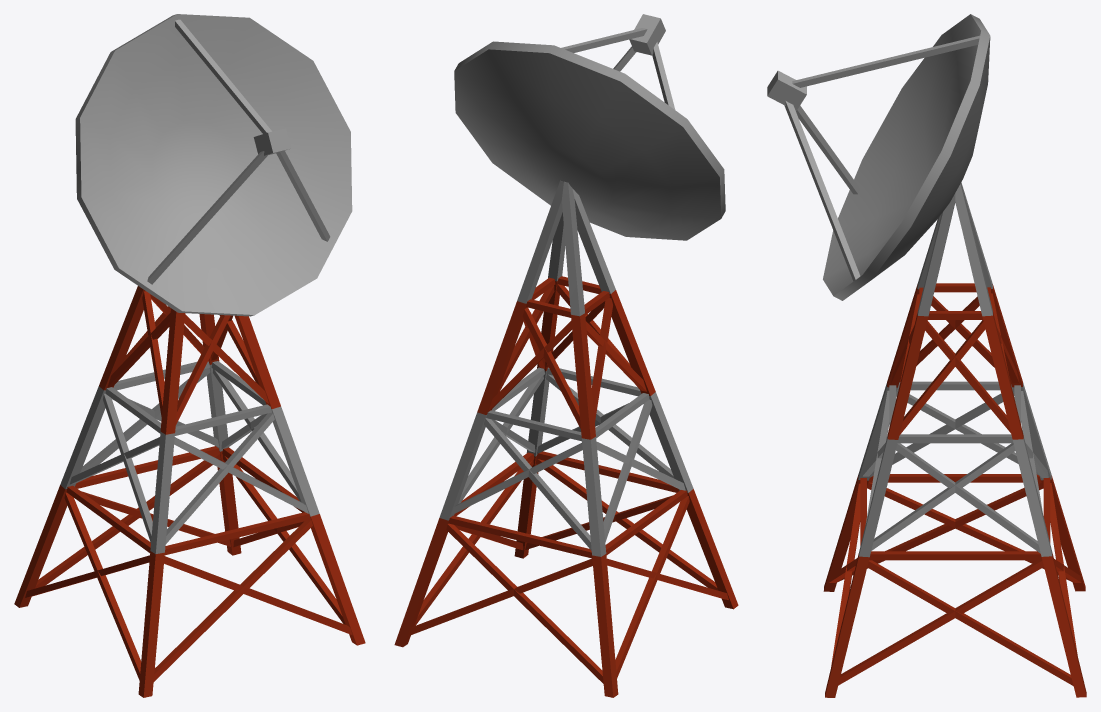
File: Antena_02.fbx
3 renders of one model, left to right at view 1: azimuth 30°, elevation 25°; view 2: azimuth 150°, elevation 25°; view 3: azimuth 270°, elevation 25°, orthographic. The views are drawn at different scales.
Visible parts, largest first — view 1: Antena_02; view 2: Antena_02; view 3: Antena_02.
Boxes of the visible parts, x1,y1,x2,y2 form: Antena_02: (14,14,365,697); Antena_02: (394,14,738,697); Antena_02: (767,14,1086,697).
Bounding box in the file's own units: 408 × 870 × 412.
Materials: 1 (1 with a texture image).
